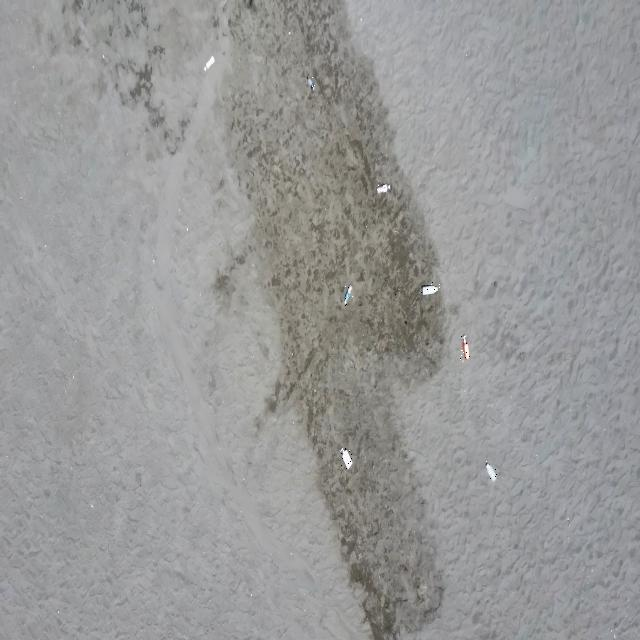plastic-bottle: (421, 282, 440, 297), (486, 461, 498, 483), (460, 335, 470, 361), (341, 448, 352, 470), (344, 284, 353, 307), (376, 182, 391, 195), (204, 56, 215, 73), (308, 76, 316, 94)
